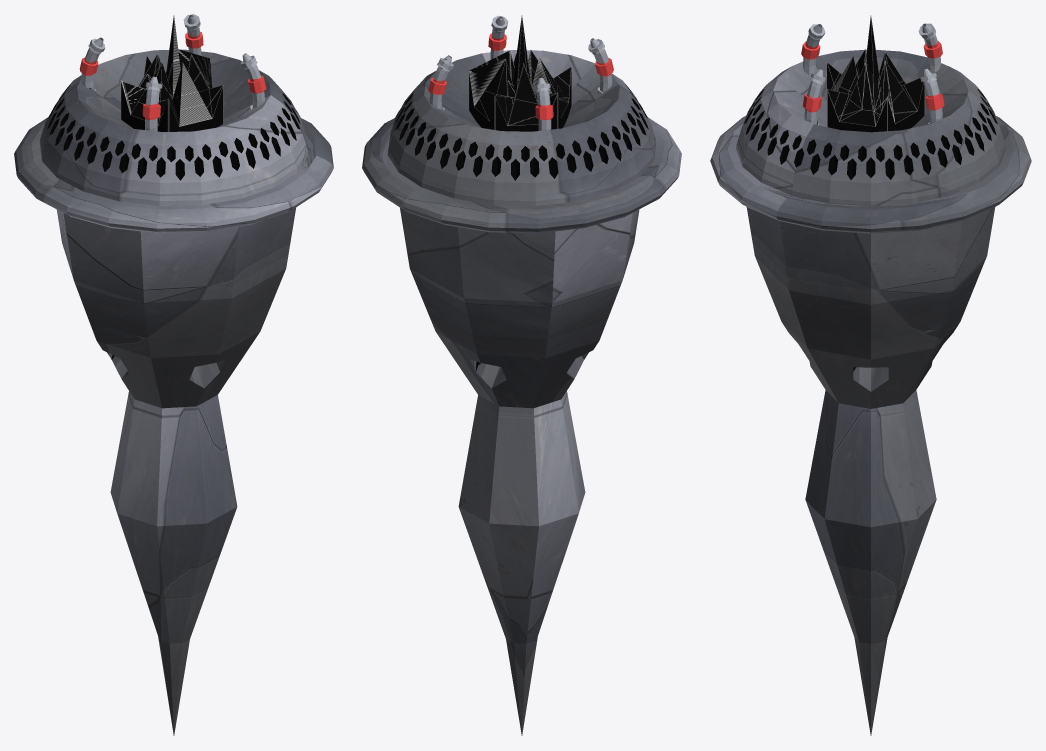
The model's file is boss_model.fbx.
3 views of the same model, side by side, from view 1: azimuth 30°, elevation 25°; view 2: azimuth 150°, elevation 25°; view 3: azimuth 270°, elevation 25° (orthographic).
Visible parts, largest first — view 1: polySurface3260, polySurface3281, polySurface3274; view 2: polySurface3260, polySurface3281, polySurface3274; view 3: polySurface3260, polySurface3281, polySurface3274.
Part boxes in pixels (left/top/right/bottom): polySurface3260: left=56, top=207, right=296, bottom=735; polySurface3281: left=14, top=15, right=333, bottom=233; polySurface3274: left=79, top=14, right=266, bottom=131; polySurface3260: left=400, top=207, right=639, bottom=735; polySurface3281: left=362, top=15, right=681, bottom=233; polySurface3274: left=428, top=15, right=613, bottom=130; polySurface3260: left=746, top=207, right=995, bottom=735; polySurface3281: left=710, top=15, right=1031, bottom=233; polySurface3274: left=801, top=23, right=944, bottom=125.
Size of the model in its own units: 5.93 by 14.7 by 5.93.
